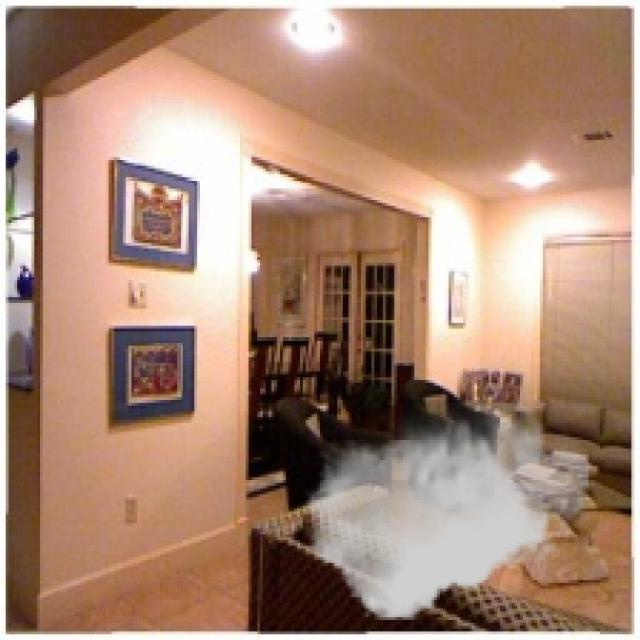smoke: (306, 403, 588, 620)
